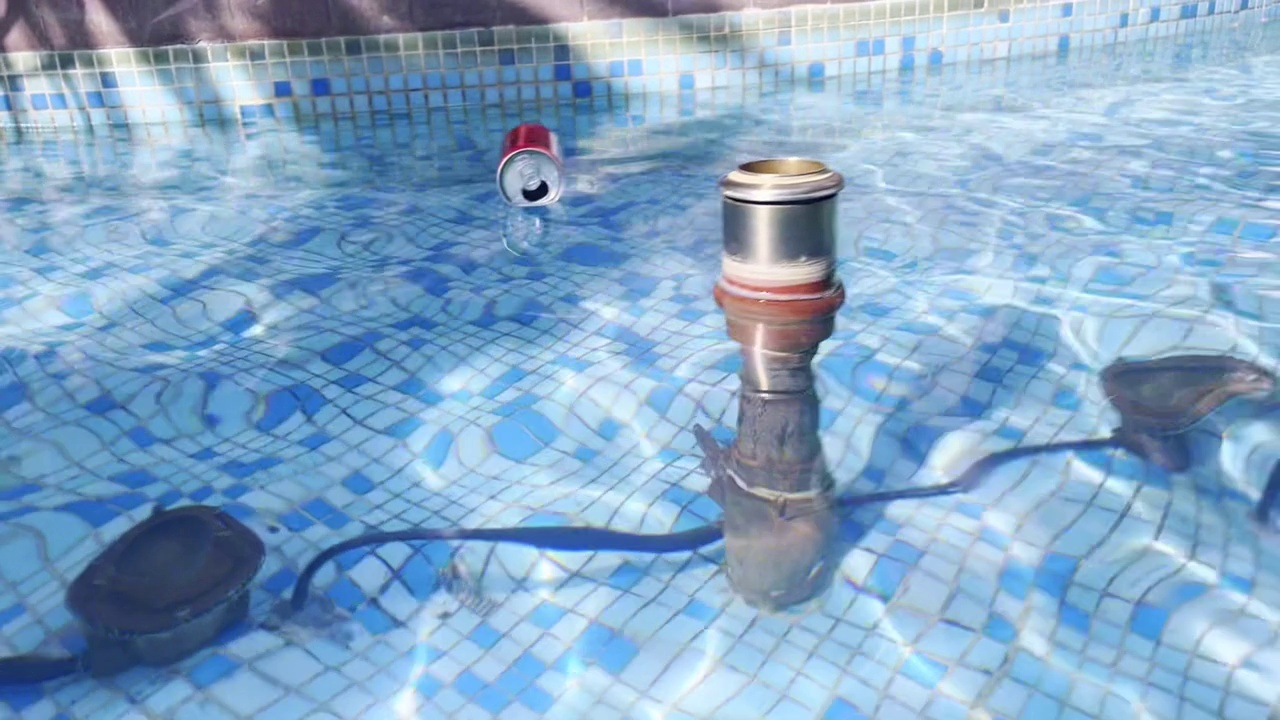debris: (495, 121, 569, 210)
